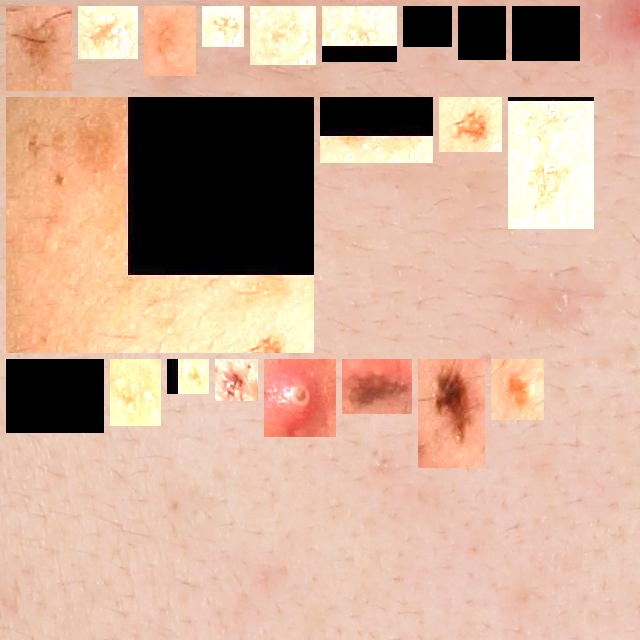melasma: (14, 105, 306, 345), (516, 105, 586, 221), (328, 105, 425, 155), (14, 367, 96, 425), (14, 14, 64, 83), (330, 14, 389, 54), (258, 14, 308, 57), (520, 14, 572, 53), (152, 14, 188, 68), (447, 105, 494, 144), (118, 367, 153, 418), (499, 367, 536, 412), (86, 14, 130, 51), (466, 14, 498, 52), (411, 14, 444, 39), (210, 14, 236, 39), (175, 367, 201, 386)
nevus: (426, 367, 477, 460), (350, 367, 404, 406), (223, 367, 250, 393)
pustule: (272, 367, 328, 429)
